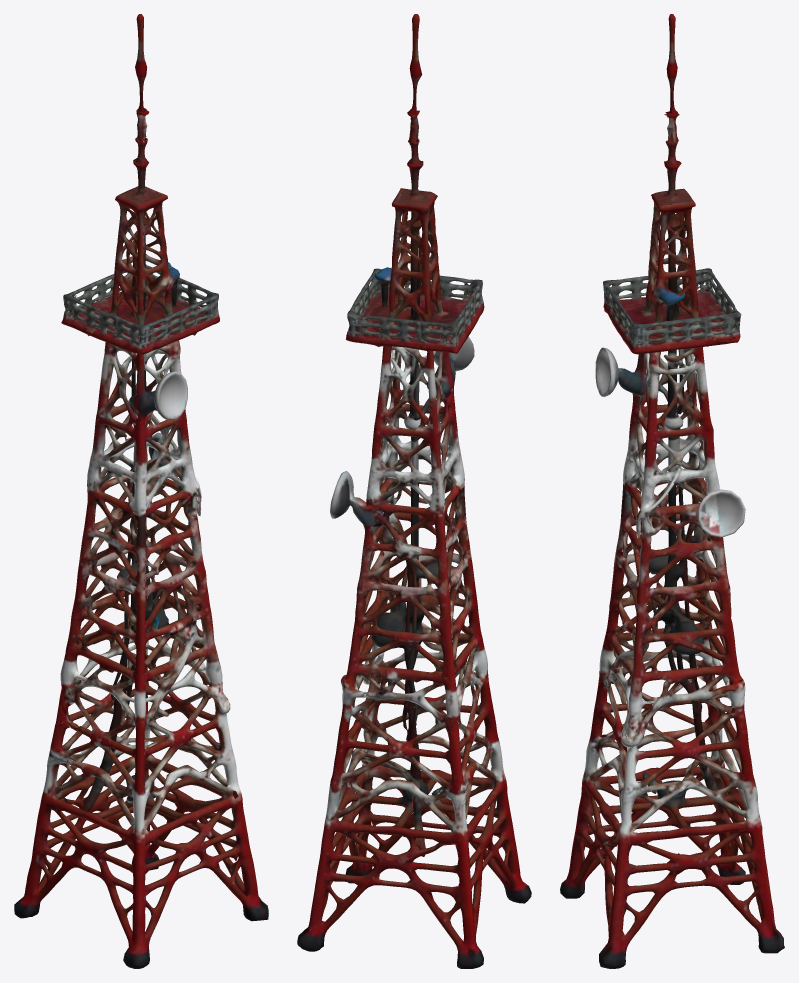
The model's file is tomsk_tv_tower.glb.
3 views of the same model, side by side, from view 1: azimuth 30°, elevation 25°; view 2: azimuth 150°, elevation 25°; view 3: azimuth 270°, elevation 25° (orthographic).
Parts seen in each view (by area): view 1: tripo_node_fc359b25-06e1-4f8e-bb5e-e482fc4db453; view 2: tripo_node_fc359b25-06e1-4f8e-bb5e-e482fc4db453; view 3: tripo_node_fc359b25-06e1-4f8e-bb5e-e482fc4db453.
Part boxes in pixels (left/top/right/bottom): tripo_node_fc359b25-06e1-4f8e-bb5e-e482fc4db453: left=14, top=14, right=268, bottom=968; tripo_node_fc359b25-06e1-4f8e-bb5e-e482fc4db453: left=297, top=14, right=531, bottom=968; tripo_node_fc359b25-06e1-4f8e-bb5e-e482fc4db453: left=560, top=14, right=784, bottom=968.
Bounding box in the file's own units: 0.2186 × 0.9755 × 0.2191.
Materials: 1 (1 with a texture image).
